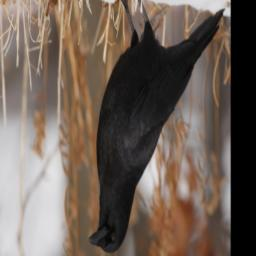Crow: (85, 0, 225, 256)
